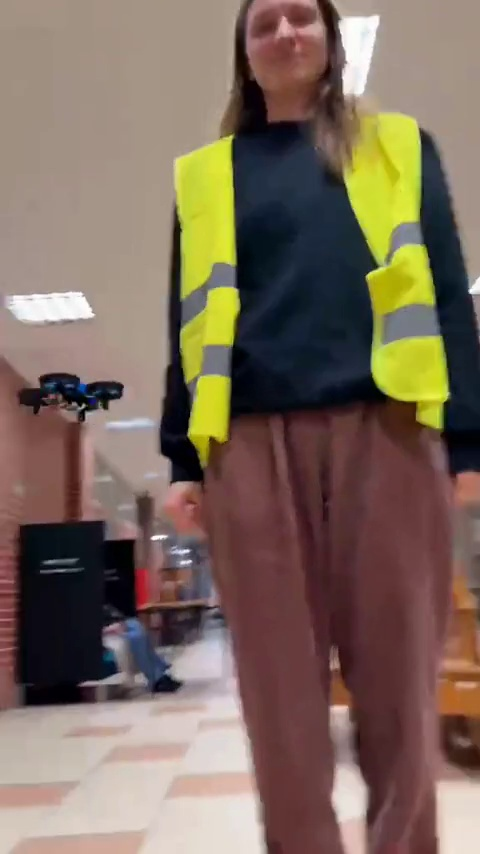drone: (21, 370, 126, 415)
vest: (159, 63, 475, 847)
